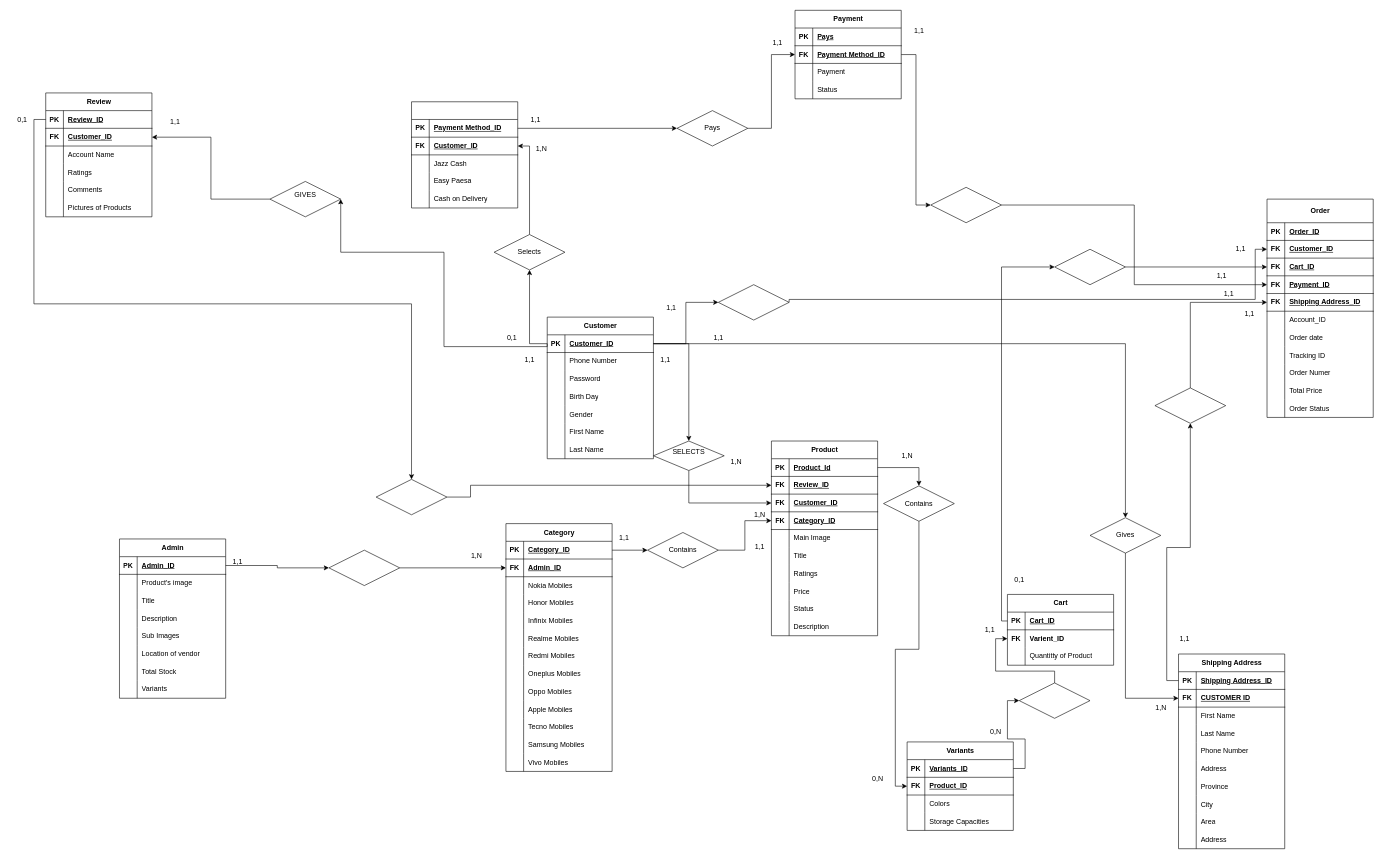
The diagram is 1384 pixels wide and 859 high, and some of its shapes have lost their labels. The shapes that lost their labels are listed below. From the top down, each one's box as (x1, y1, x2, y2) in pixels, then its label:
(411, 101, 518, 208): Pyment Method
(930, 187, 1002, 223): Pays For
(1054, 249, 1125, 285): CHECKOUT
(718, 284, 789, 320): Places
(1154, 387, 1226, 423): Part Of
(376, 479, 447, 515): OF
(328, 550, 400, 586): Manages
(1019, 682, 1090, 718): Add To
